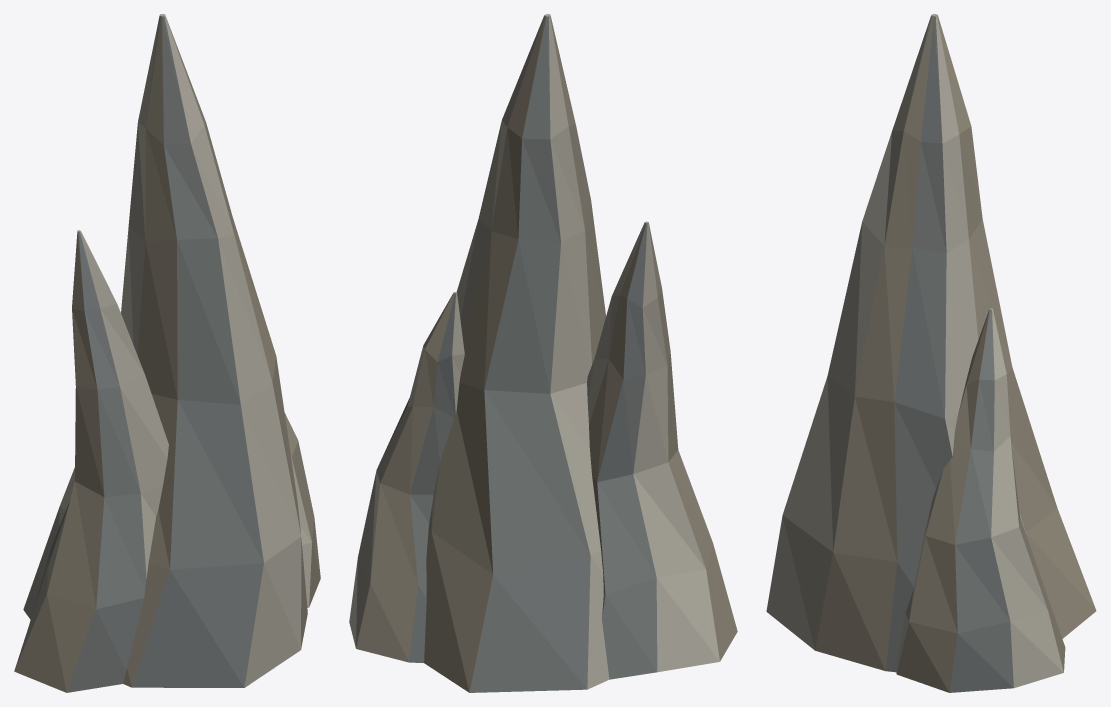
File: Alpine_JaggedSpire.fbx
3 views of the same model, side by side, from view 1: azimuth 30°, elevation 25°; view 2: azimuth 150°, elevation 25°; view 3: azimuth 270°, elevation 25° (orthographic). The views are drawn at different scales.
Visible parts, largest first — view 1: Alpine_JaggedSpire; view 2: Alpine_JaggedSpire; view 3: Alpine_JaggedSpire.
Boxes of the visible parts, x1=… form: Alpine_JaggedSpire: x1=14, y1=14, x2=320, y2=692; Alpine_JaggedSpire: x1=349, y1=14, x2=737, y2=692; Alpine_JaggedSpire: x1=766, y1=14, x2=1096, y2=692.
Size of the model in its own units: 3.8 by 6.8 by 3.4.
